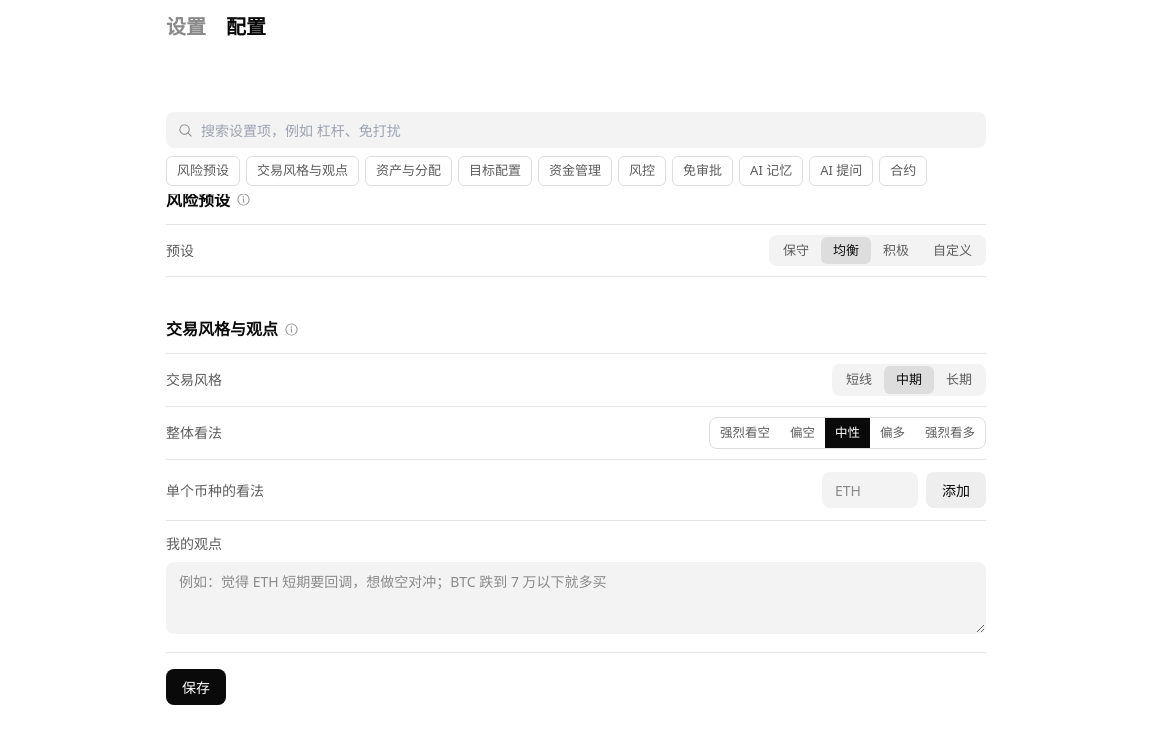
Test: Config page (配置) › applies a risk preset
Click the button "积极" at (896, 250), box [871,236,921,264]
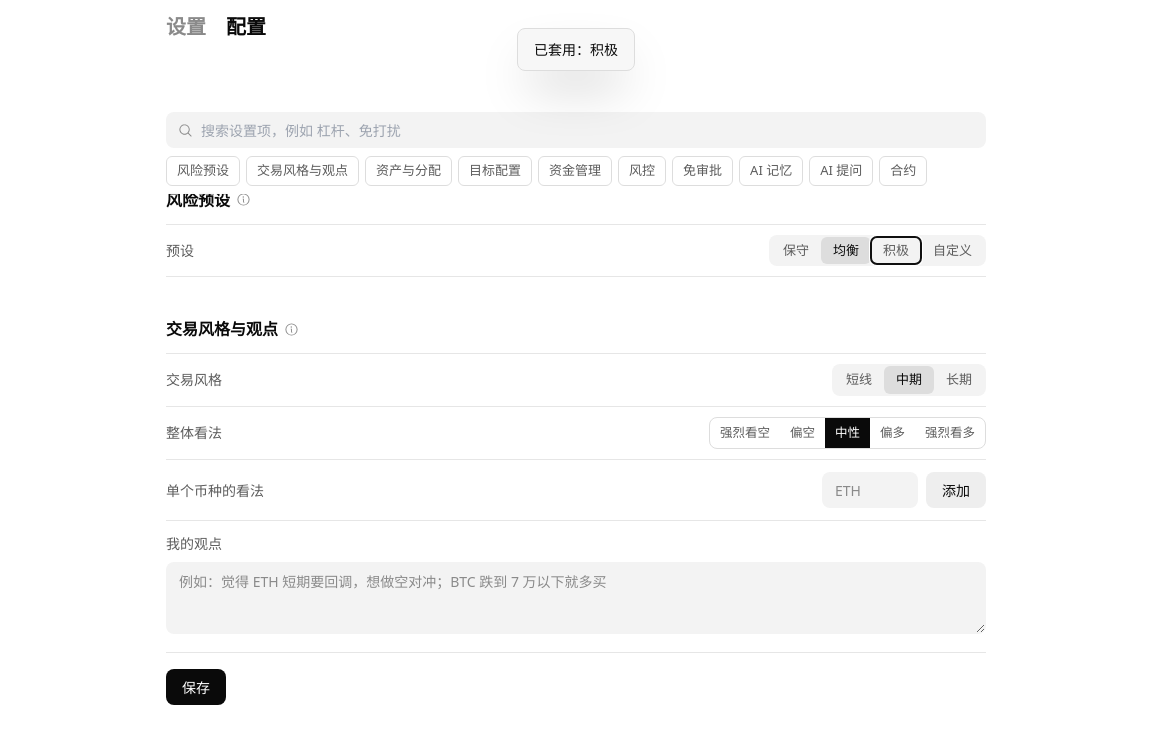
Now the message reads "已套用：积极", box [534,40,618,59]
